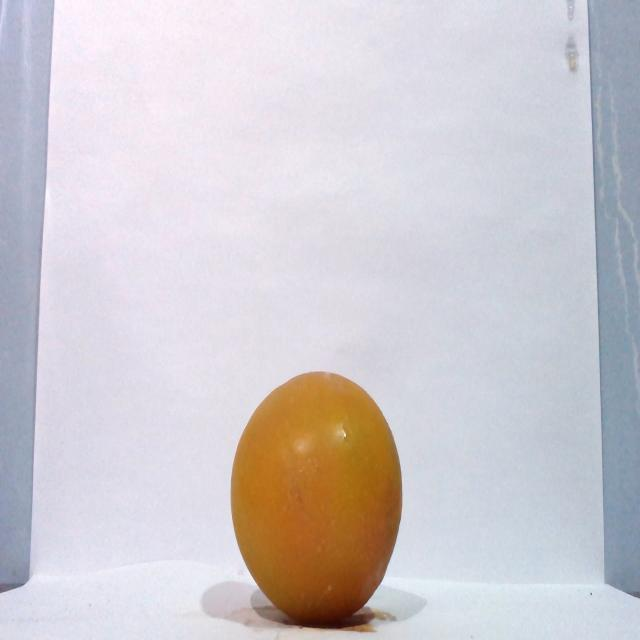Red: (228, 369, 403, 625)
